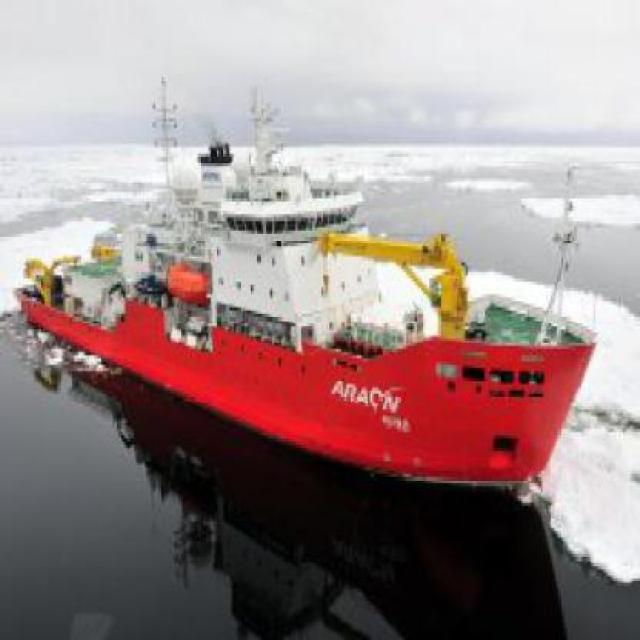fish-b: (12, 61, 607, 513)
